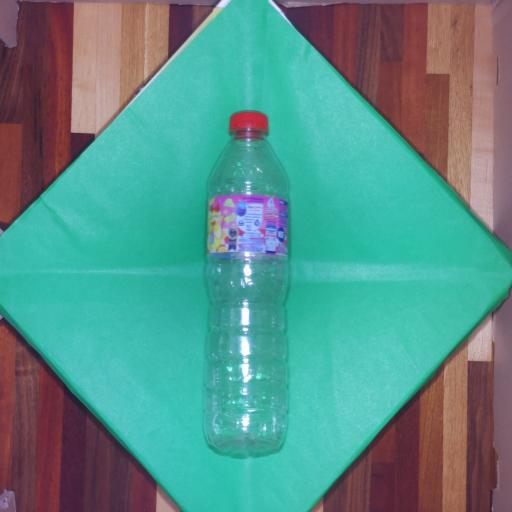bottle: (182, 89, 303, 471)
